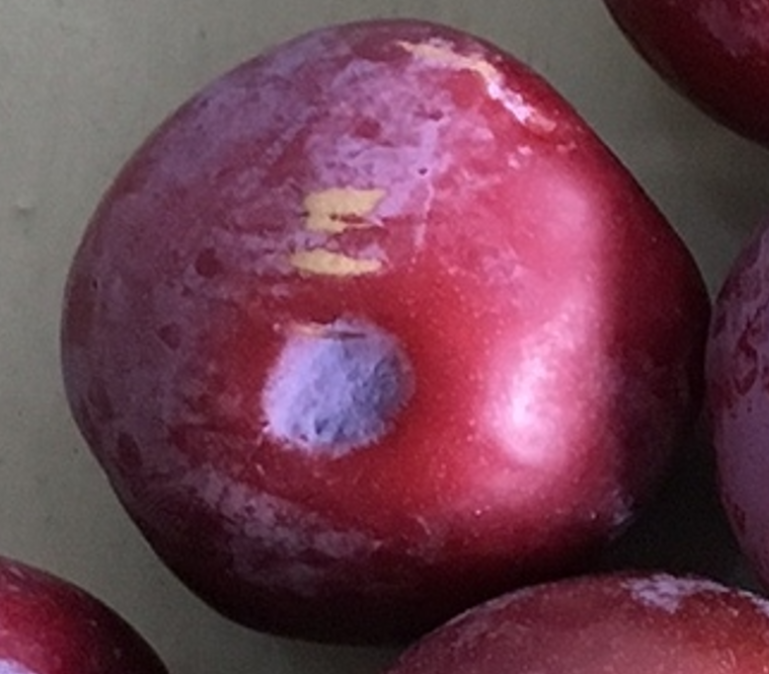plum_B: (60, 21, 716, 647)
